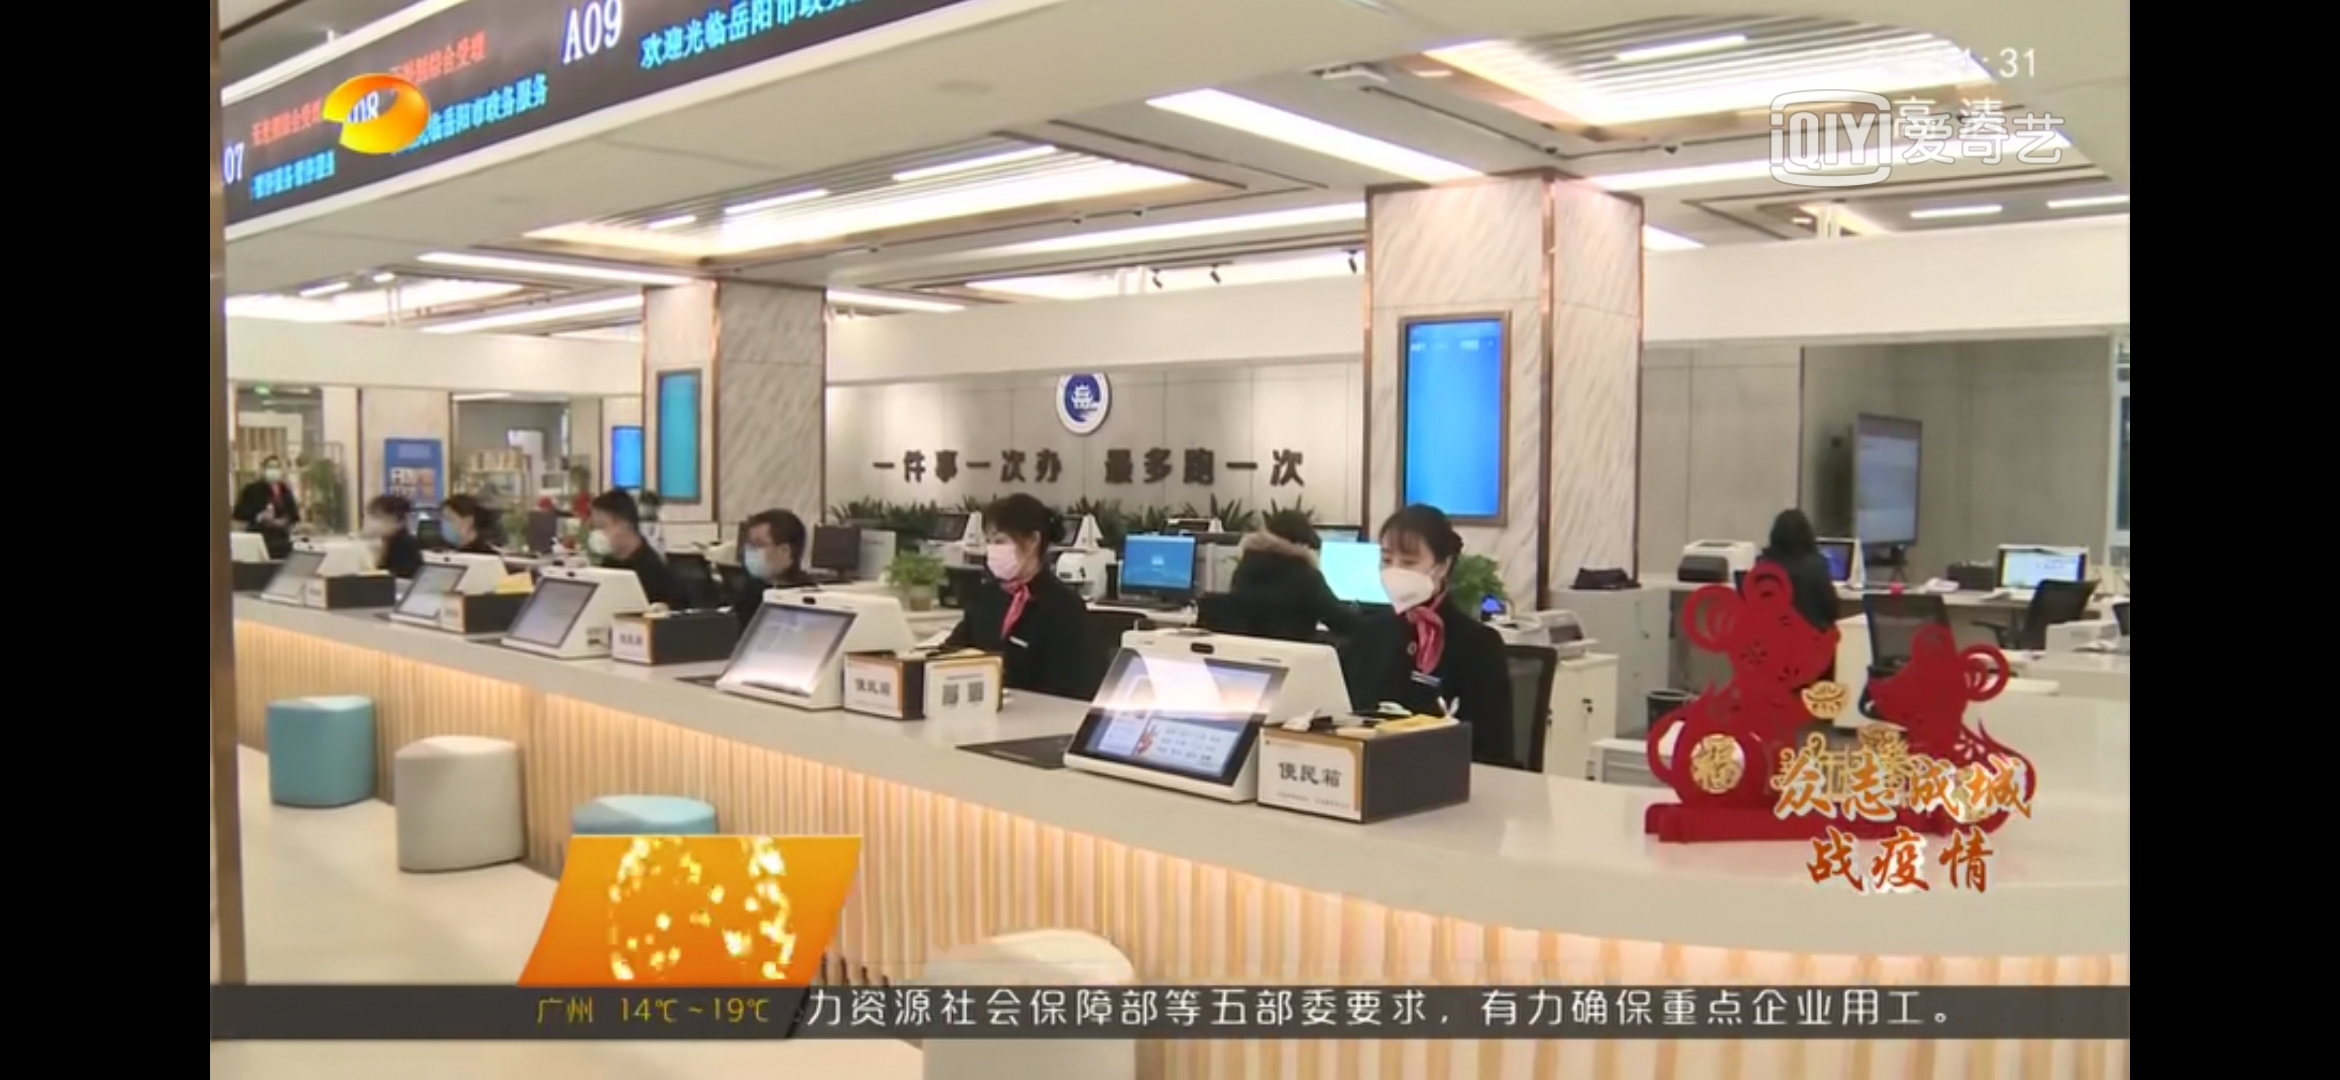correctlyWear: (1376, 530, 1457, 612), (985, 521, 1040, 582), (745, 530, 794, 577), (584, 509, 631, 556), (436, 509, 475, 546), (366, 506, 395, 536), (258, 456, 287, 483)
